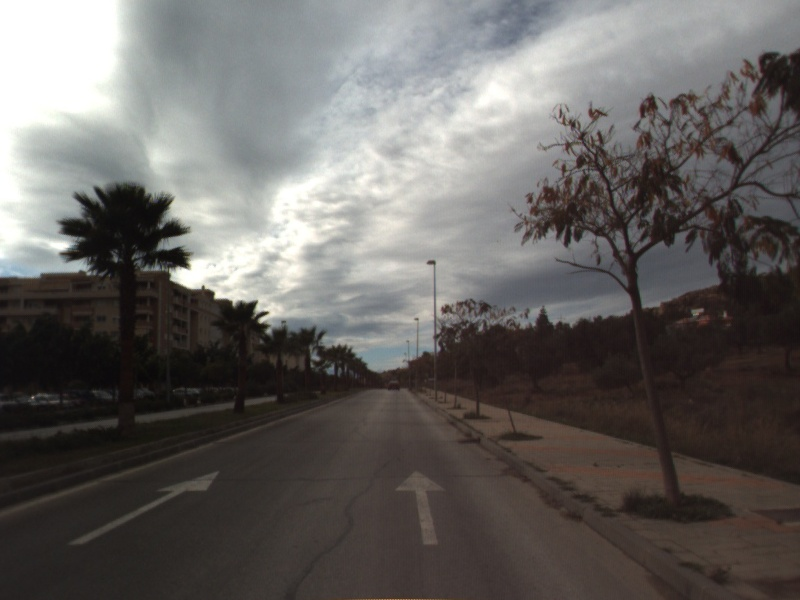STRAIGHT: (65, 469, 222, 548), (393, 468, 448, 547)
